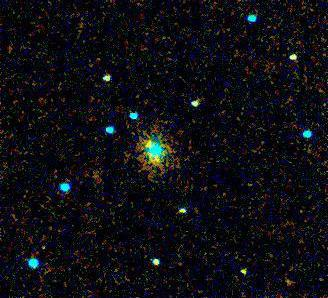star: (226, 261, 256, 291)
